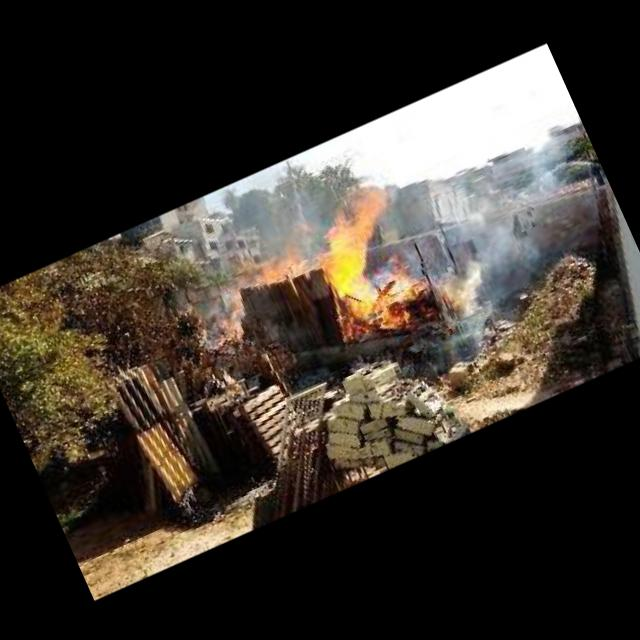fire: (291, 175, 433, 339), (228, 222, 312, 292), (198, 283, 254, 345)
smoke: (454, 192, 548, 294), (501, 133, 586, 217), (432, 295, 516, 370)
